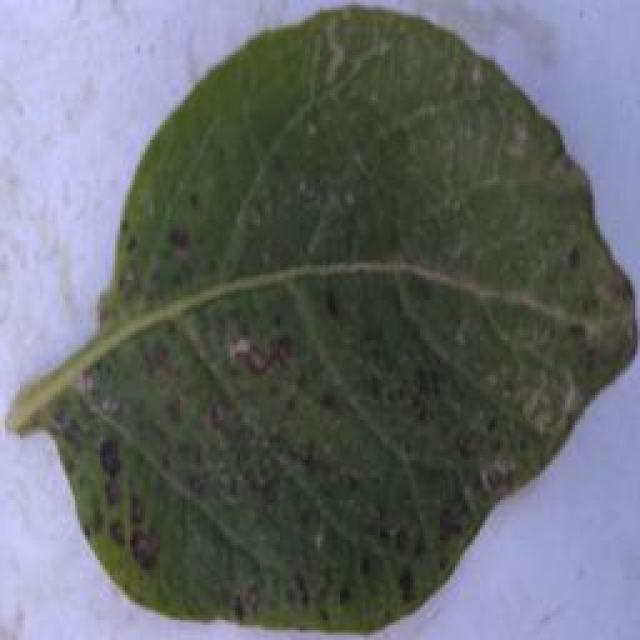Potato_Early_Blight: (30, 5, 640, 640)
